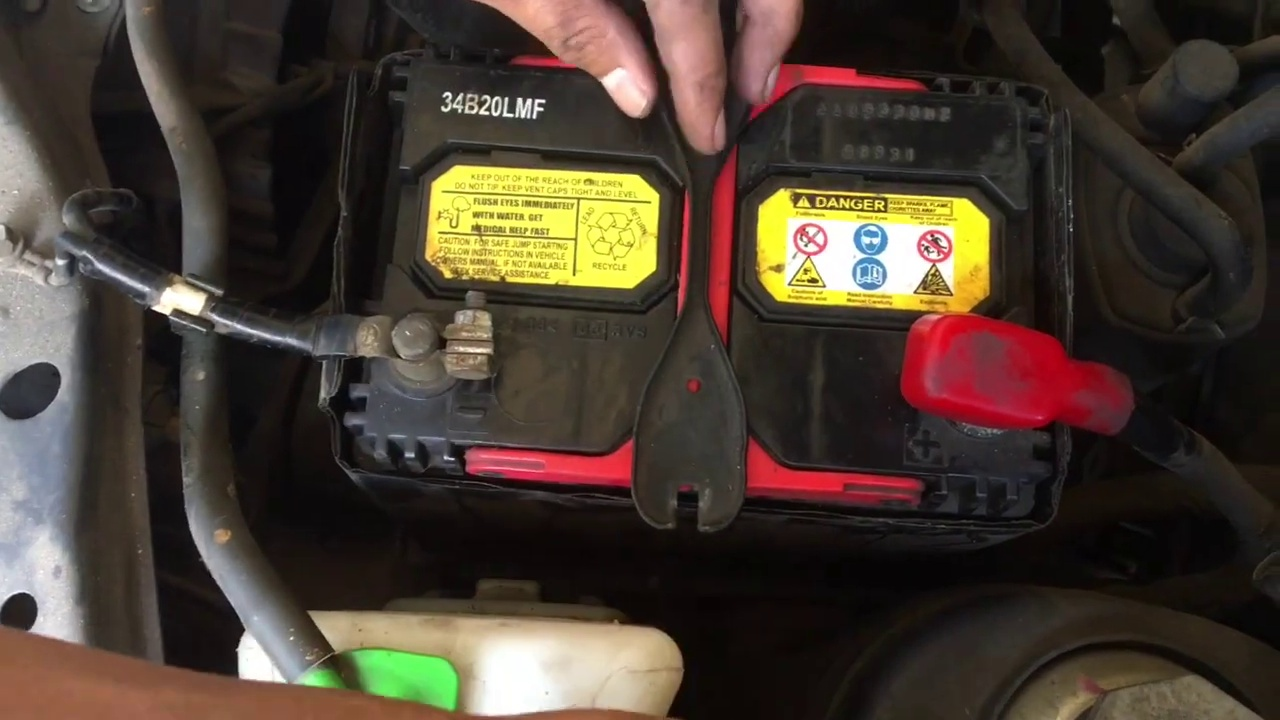battery: (354, 59, 1073, 527)
neg_connected: (304, 270, 503, 408)
pos_connected: (876, 314, 1139, 465)
